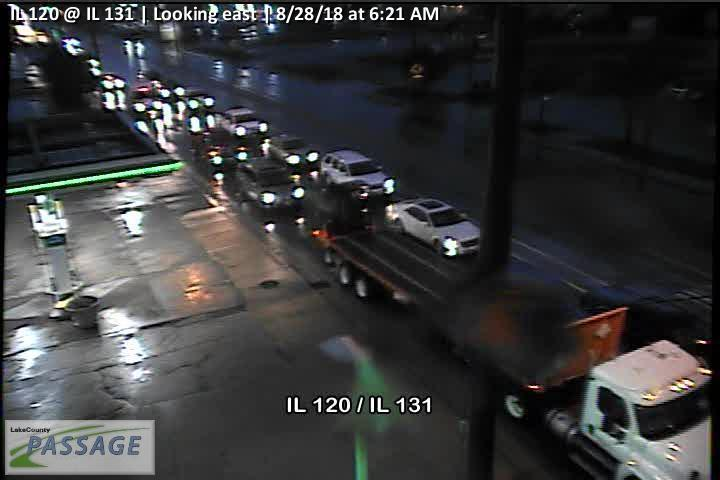SUV: (320, 150, 395, 202), (235, 157, 305, 210), (221, 107, 267, 138)
Sedan: (382, 198, 483, 258), (260, 135, 321, 167)
Truck: (323, 223, 720, 480)
